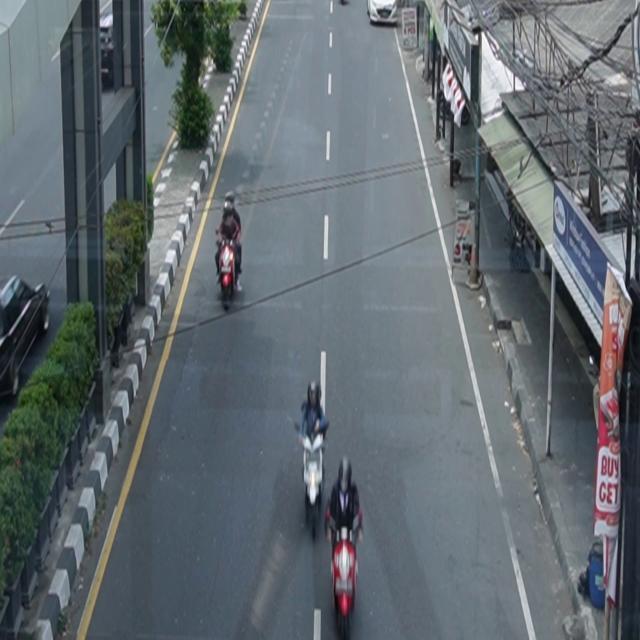car: (1, 275, 52, 401), (367, 1, 398, 26)
